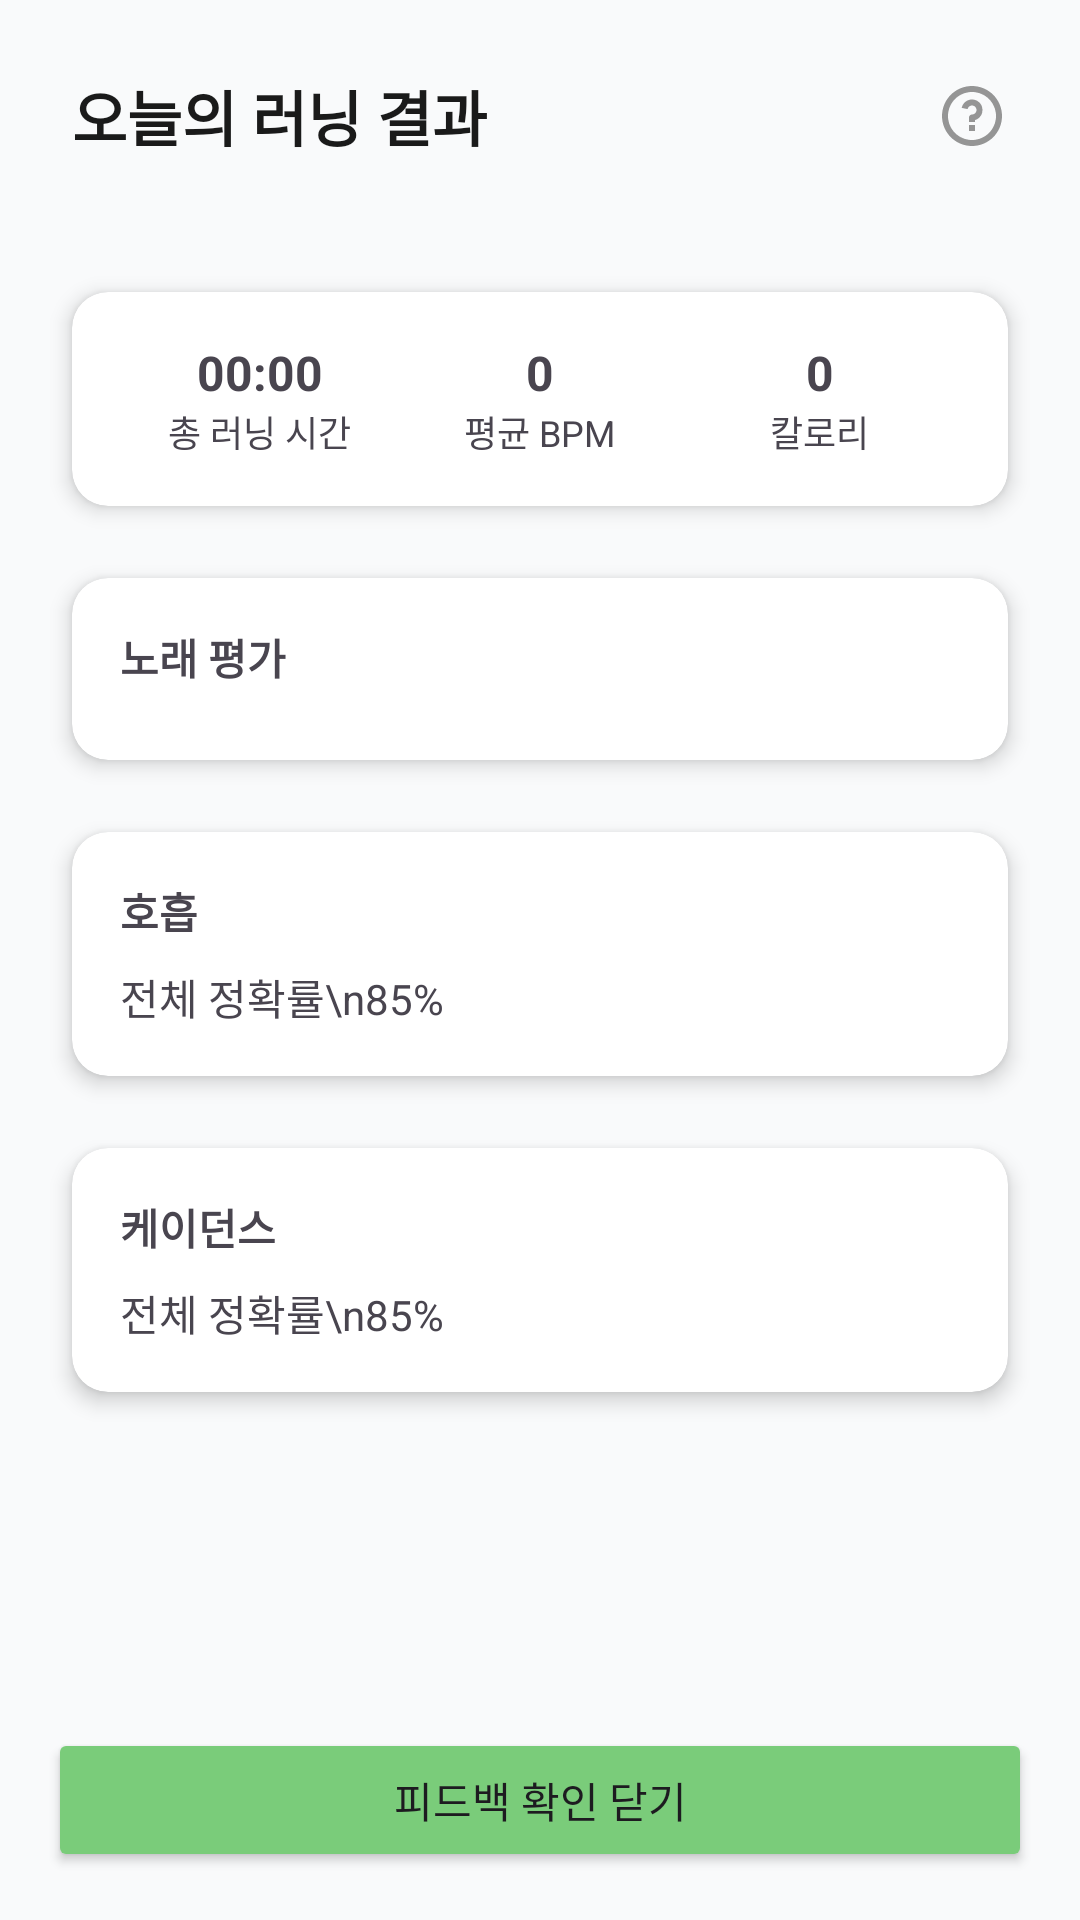

Icons on this 1080px×1920px Android screen, each with the point to tap as (x=x, y=y):
ri question line: (x=972, y=116)
